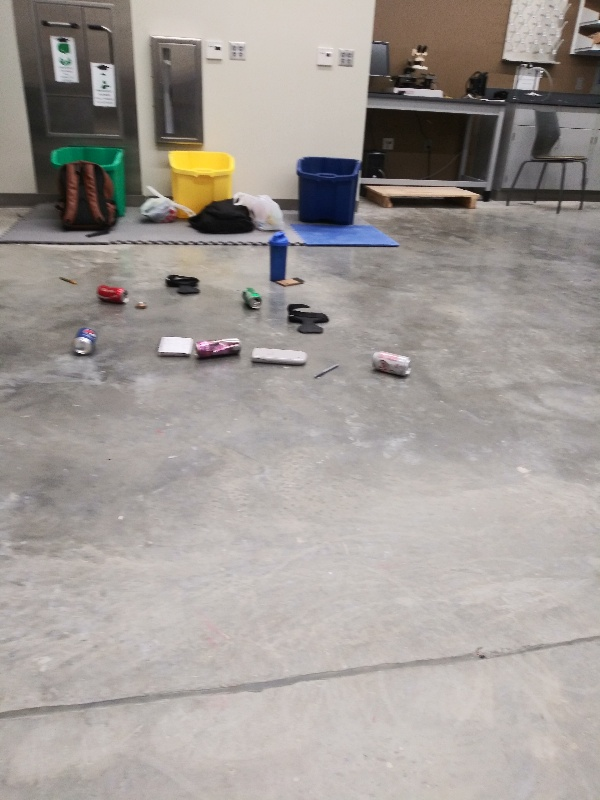can: (191, 335, 243, 364), (369, 347, 415, 377), (70, 325, 101, 354), (95, 283, 131, 304), (239, 282, 264, 311)
